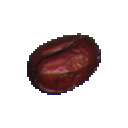ng: (21, 28, 105, 99)
